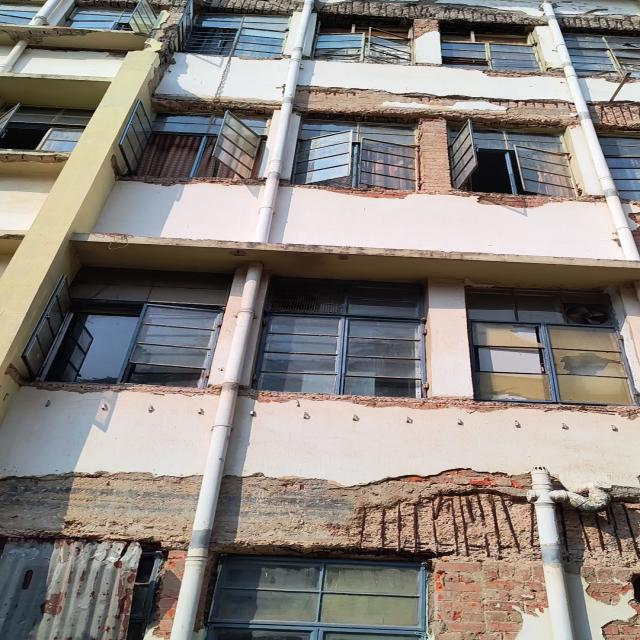peeling: (212, 475, 450, 552), (0, 472, 201, 549)
spalling: (355, 493, 539, 562), (295, 87, 578, 128), (316, 0, 545, 26), (557, 501, 639, 567), (0, 24, 143, 46), (391, 469, 520, 488), (200, 0, 301, 15), (561, 16, 639, 34), (479, 68, 561, 78), (75, 0, 137, 10), (411, 19, 439, 40), (151, 0, 186, 9)
